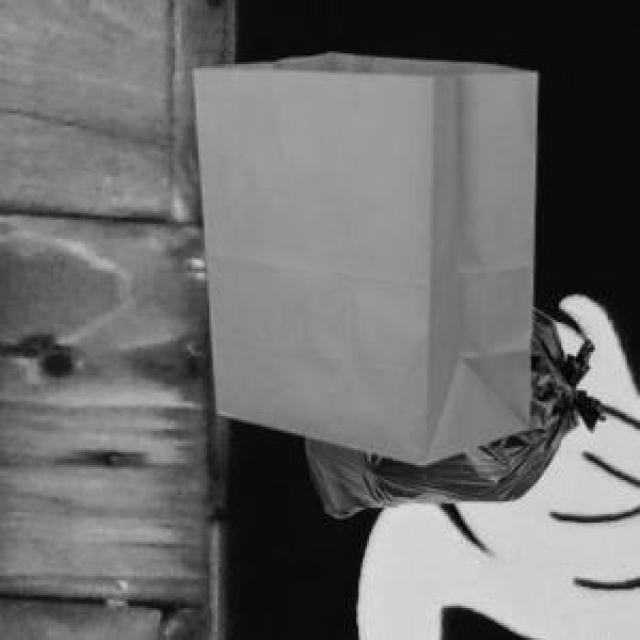miscellaneous trash: (304, 303, 602, 514)
paper: (191, 49, 533, 461)
